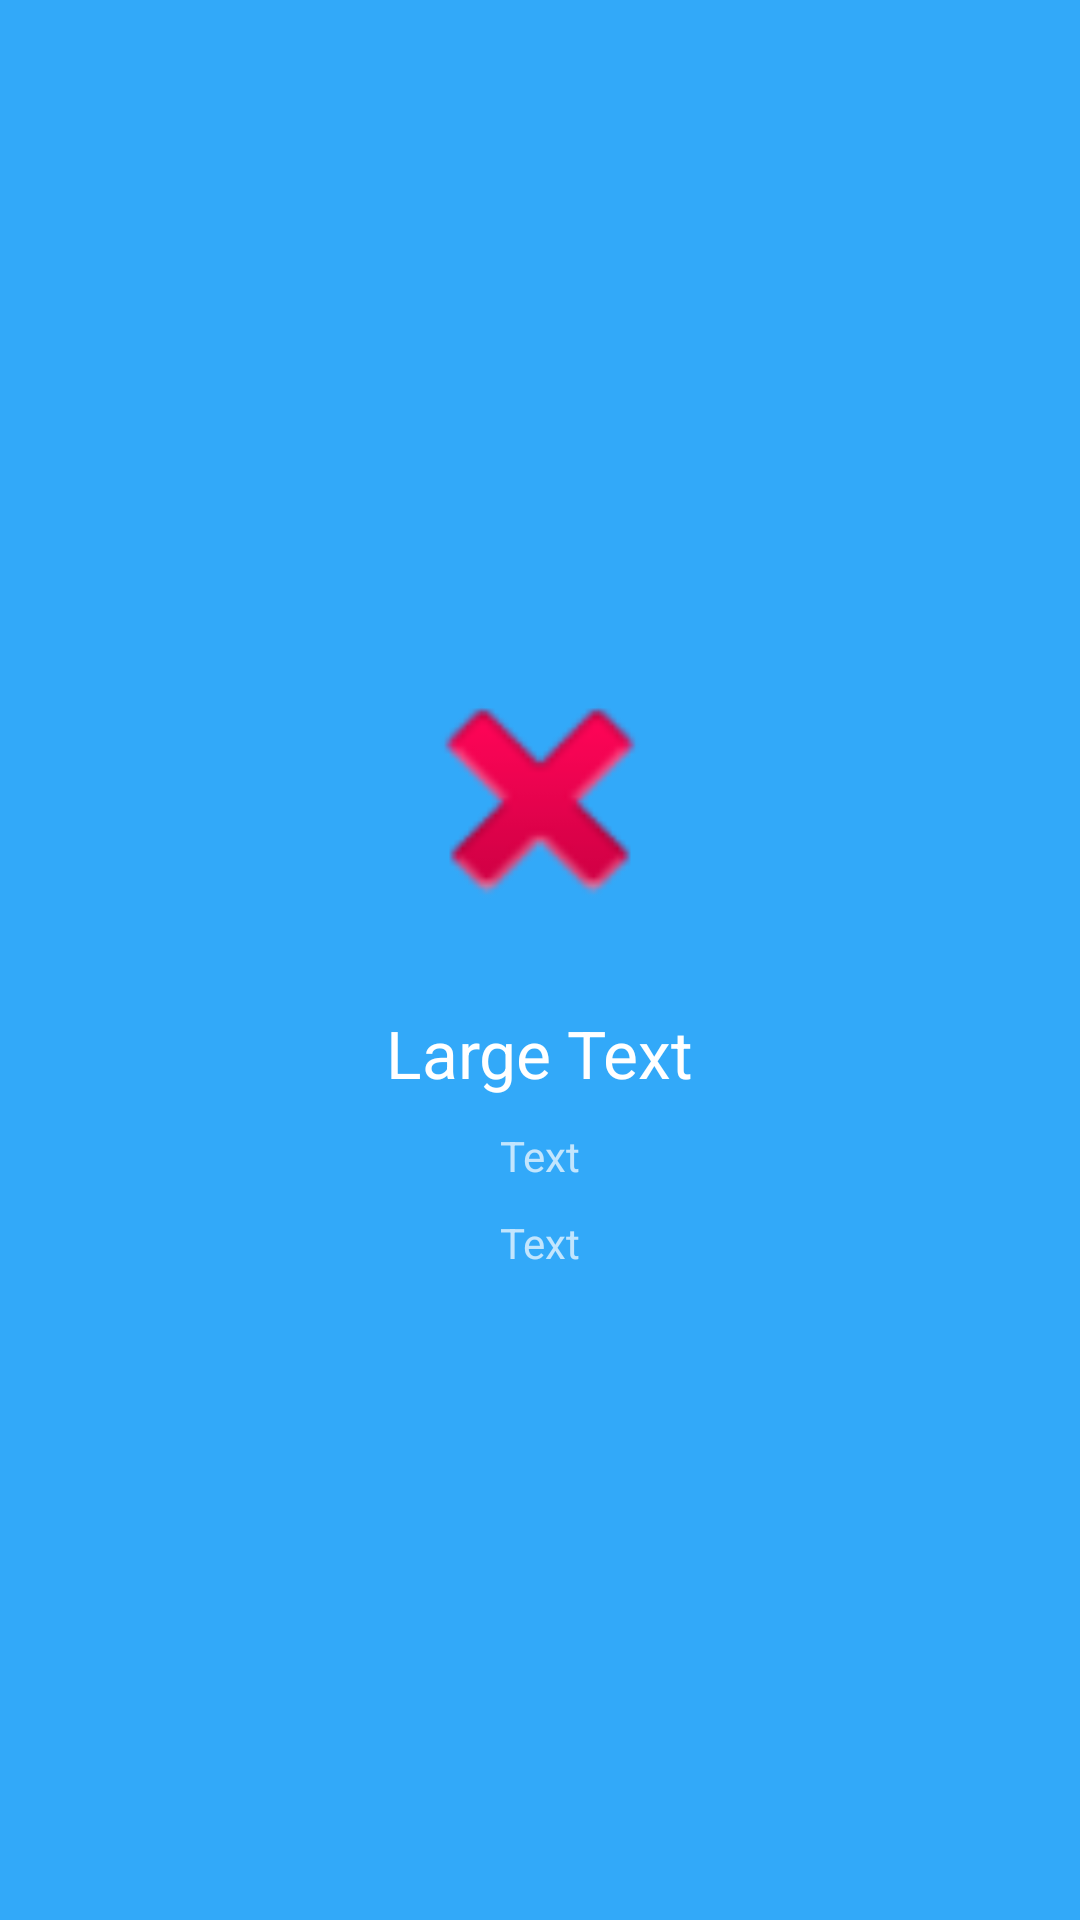

Where icons sit on this 1080×1920 app screen, as bbox=[x1, y1, x2, y2]:
delete: bbox=[445, 708, 635, 893]
